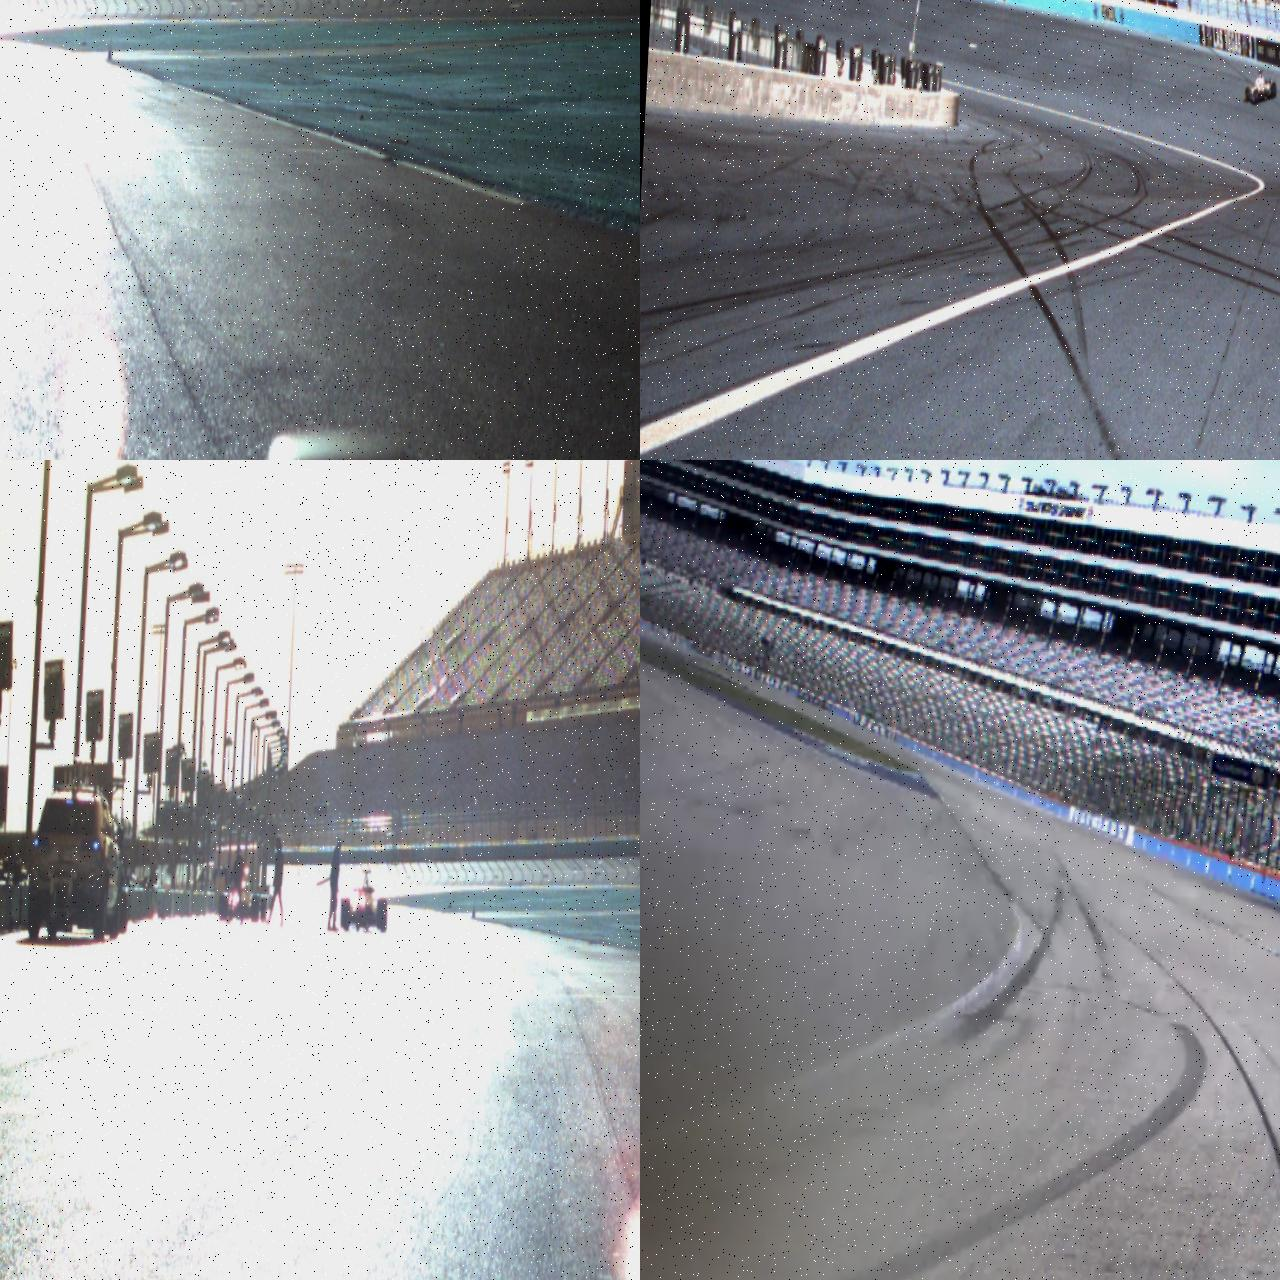AV: (339, 869, 389, 930), (218, 865, 268, 922), (1244, 69, 1276, 105)
Wheel: (340, 896, 350, 927), (376, 898, 387, 928), (218, 892, 229, 920), (250, 896, 259, 921), (259, 897, 266, 919), (1269, 82, 1276, 98), (1253, 88, 1259, 104), (1244, 86, 1250, 101)
